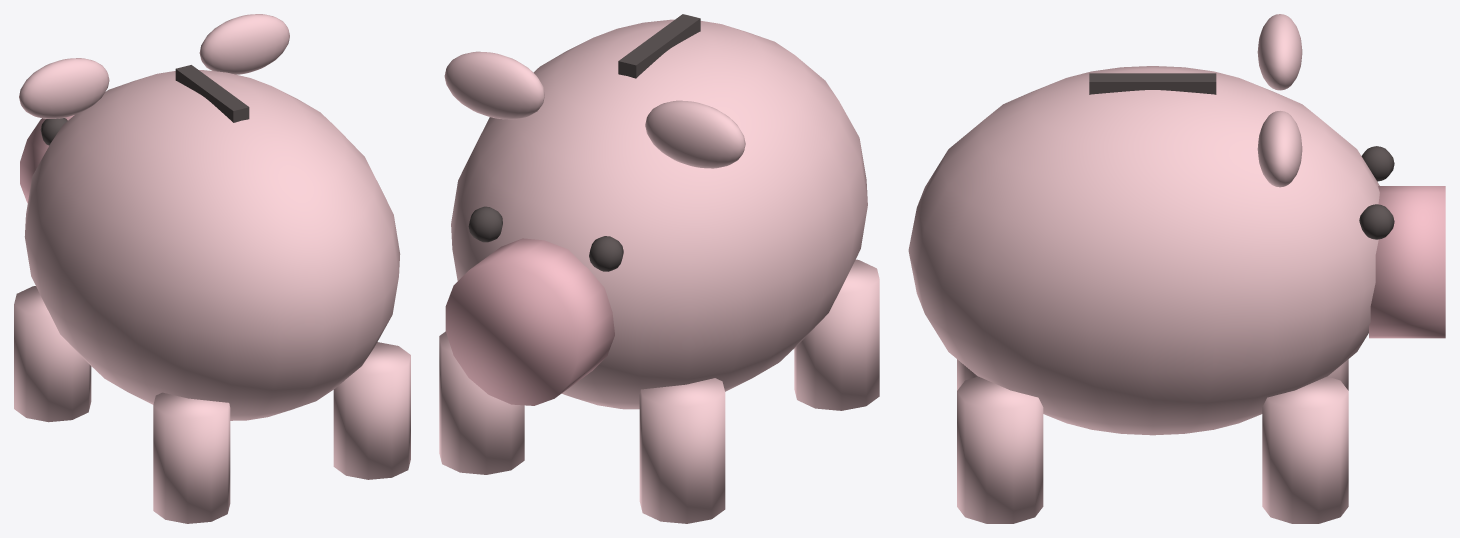
File: escena.casa.alcancia.fbx
3 views of the same model, side by side, from view 1: azimuth 30°, elevation 25°; view 2: azimuth 150°, elevation 25°; view 3: azimuth 270°, elevation 25° (orthographic). The views are drawn at different scales.
Parts seen in each view (by area): view 1: Cuerpo, Pata.003, Pata.001, Pata.002, Oreja.001, Oreja, Ranura, Nariz; view 2: Cuerpo, Nariz, Pata.002, Pata.003, Pata, Oreja.001, Oreja, Ranura, Ojo.001, Ojo; view 3: Cuerpo, Pata, Pata.001, Nariz, Oreja.001, Oreja, Ranura, Ojo, Ojo.001.
Part boxes in pixels (x1=…): Cuerpo: x1=24, y1=70, x2=400, y2=420; Pata.003: x1=153, y1=392, x2=230, y2=523; Pata.001: x1=333, y1=342, x2=410, y2=479; Pata.002: x1=14, y1=286, x2=91, y2=422; Oreja.001: x1=19, y1=58, x2=109, y2=118; Oreja: x1=199, y1=14, x2=289, y2=74; Ranura: x1=175, y1=65, x2=249, y2=122; Nariz: x1=20, y1=115, x2=74, y2=202; Cuerpo: x1=451, y1=19, x2=867, y2=409; Nariz: x1=445, y1=238, x2=614, y2=405; Pata.002: x1=639, y1=378, x2=725, y2=523; Pata.003: x1=794, y1=259, x2=879, y2=410; Pata: x1=439, y1=331, x2=524, y2=474; Oreja.001: x1=645, y1=100, x2=745, y2=168; Oreja: x1=444, y1=51, x2=544, y2=119; Ranura: x1=618, y1=14, x2=700, y2=78; Ojo.001: x1=589, y1=236, x2=623, y2=271; Ojo: x1=468, y1=206, x2=502, y2=242; Cuerpo: x1=908, y1=66, x2=1379, y2=435; Pata: x1=1262, y1=376, x2=1348, y2=523; Pata.001: x1=957, y1=376, x2=1043, y2=523; Nariz: x1=1369, y1=186, x2=1445, y2=338; Oreja.001: x1=1257, y1=14, x2=1302, y2=90; Oreja: x1=1257, y1=111, x2=1302, y2=187; Ranura: x1=1089, y1=73, x2=1216, y2=94; Ojo: x1=1359, y1=204, x2=1394, y2=239; Ojo.001: x1=1361, y1=146, x2=1394, y2=181.
Bounding box in the file's own units: 0.152 × 0.1682 × 0.211.
